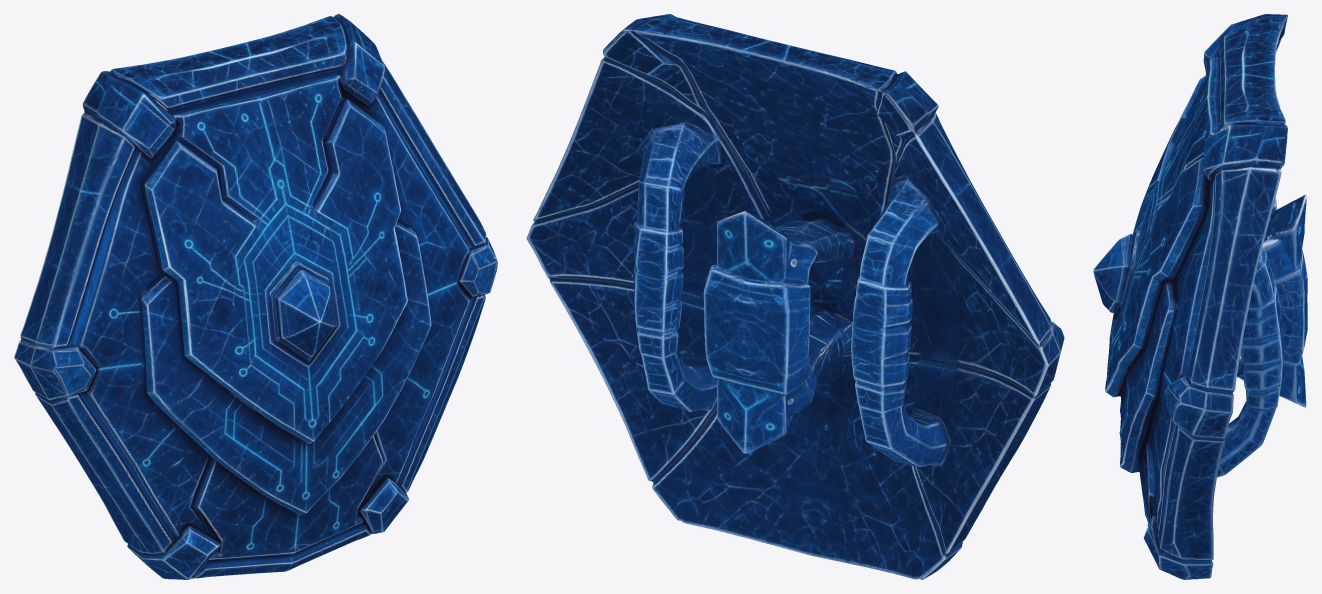
The model's file is sapphire_plate.glb.
3 views of the same model, side by side, from view 1: azimuth 30°, elevation 25°; view 2: azimuth 150°, elevation 25°; view 3: azimuth 270°, elevation 25° (orthographic). The views are drawn at different scales.
Bounding box in the file's own units: 1.9 × 1.86 × 0.7725.
1 material, 1 textured.
